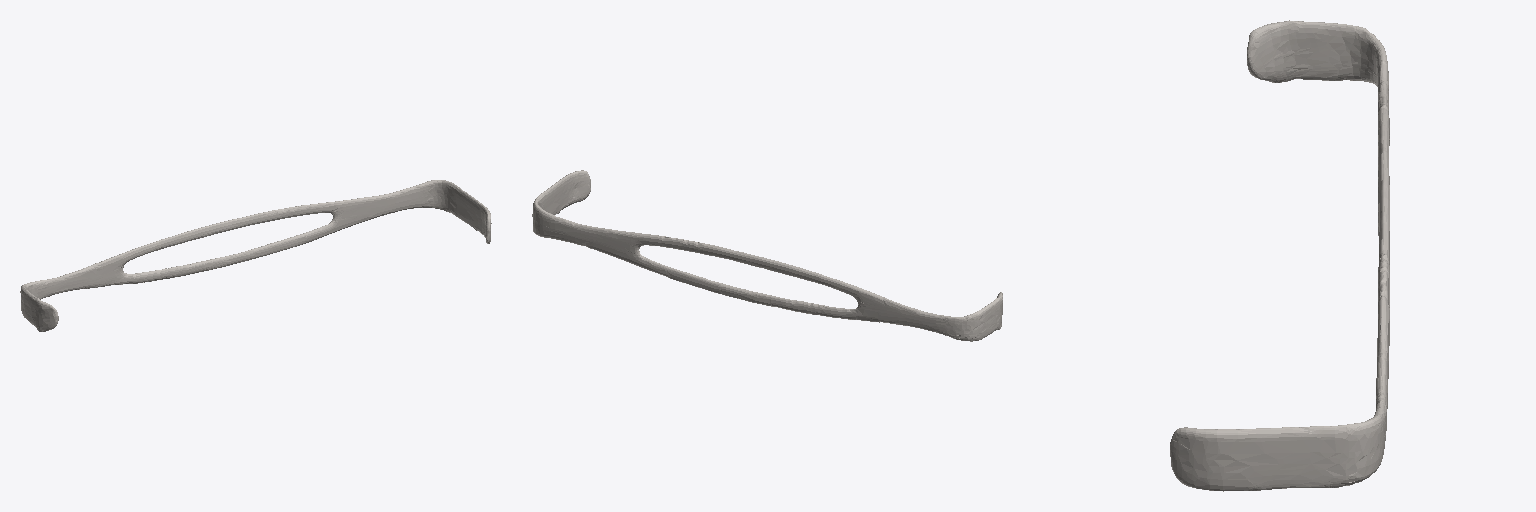
URDF robot description (Tooling_3):
<?xml version="1.0" encoding="utf-8"?>
<!-- This URDF was automatically created by SolidWorks to URDF Exporter! Originally created by Stephen Brawner (brawner@gmail.com)
     Commit Version: 1.6.0-4-g7f85cfe  Build Version: 1.6.7995.38578
     For more information, please see http://wiki.ros.org/sw_urdf_exporter -->
<robot
  name="Tooling_3">
  <link
    name="base_link">
    <inertial>
      <origin
        xyz="5.5776E-05 0.0002635 0.0075391"
        rpy="0 0 0" />
      <mass
        value="0.050858" />
      <inertia
        ixx="8.458E-06"
        ixy="-1.0783E-06"
        ixz="-1.275E-05"
        iyy="0.00031387"
        iyz="6.6433E-09"
        izz="0.00030783" />
    </inertial>
    <visual>
      <origin
        xyz="0 0 0"
        rpy="0 0 0" />
      <geometry>
        <mesh
          filename="../meshes/base_link.STL" />
      </geometry>
      <material
        name="">
        <color
          rgba="0.77647 0.75686 0.73725 1" />
      </material>
    </visual>
    <collision>
      <origin
        xyz="0 0 0"
        rpy="0 0 0" />
      <geometry>
        <mesh
          filename="../meshes/base_link.STL" />
      </geometry>
    </collision>
  </link>
</robot>

--- What the picture shows (computed from the rendered views, not written in the file) ---
3 views of the same robot in one strip: view 1: azimuth 30°, elevation 25°; view 2: azimuth 150°, elevation 25°; view 3: azimuth 270°, elevation 25° (orthographic).
Robot: Tooling_3 — 1 links, 0 joints (none); root link base_link; default pose: all joints at 0.
Visible links, largest first — view 1: base_link; view 2: base_link; view 3: base_link.
Link boxes in pixels (x1,y1,x2,y2): base_link: (20, 180, 491, 331); base_link: (532, 170, 1002, 341); base_link: (1170, 20, 1389, 491).
Bounding box of the posed robot: 0.2128 × 0.0477 × 0.0212 m (x, y, z).
1 mesh visuals loaded from 1 distinct referenced files (1 binary STL).
